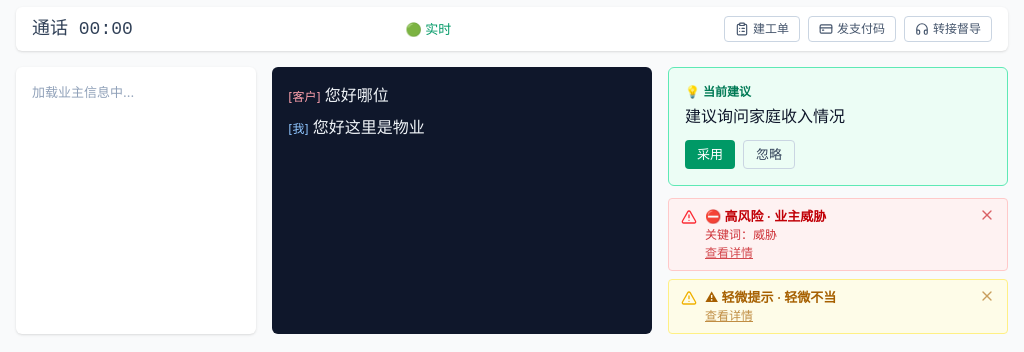
Test: RealtimeCallShell › dismisses a risk banner when X is clicked
Expected: the text "⛔ 高风险 · 业主威胁" is shown, [705, 208, 826, 224]
# Click dismiss on the L2 banner (first close button)
Click the button named "关闭" next to "业主威胁" at {"x": 987, "y": 215}, box [979, 207, 995, 223]
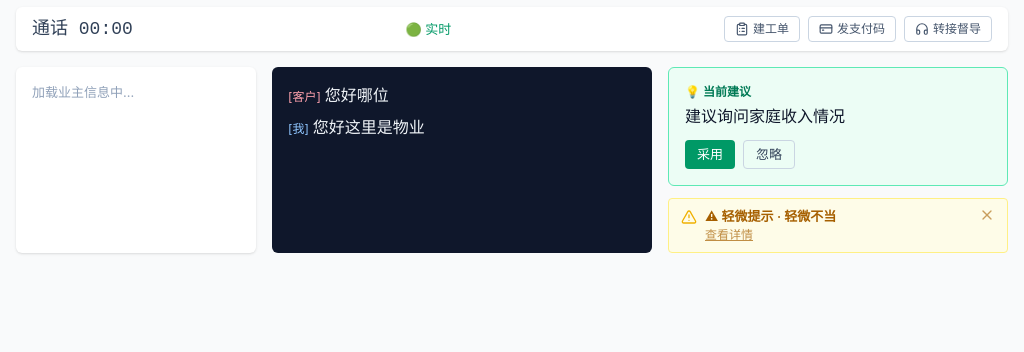
Expected: the text "⚠ 轻微提示 · 轻微不当" is shown, [705, 208, 836, 224]
Now the text "高风险" is gone
